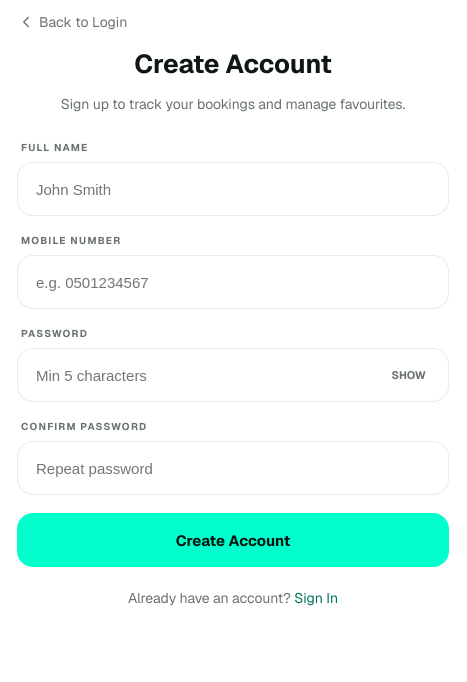
Test: Register › errors when passwords do not match
This screenshot has width=467, height=682.
In the field with placeholder "John Smith": [233, 189] box [34,163,432,215], type "Ada"
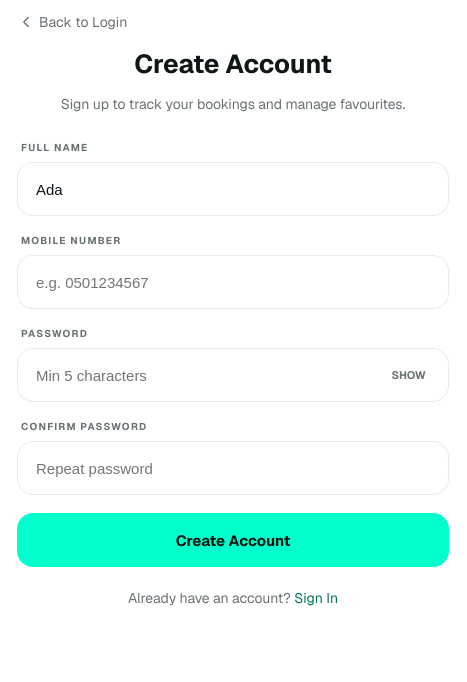
In the field with placeholder "e.g. 0501234567": [233, 282] box [34,256,432,308], type "050"
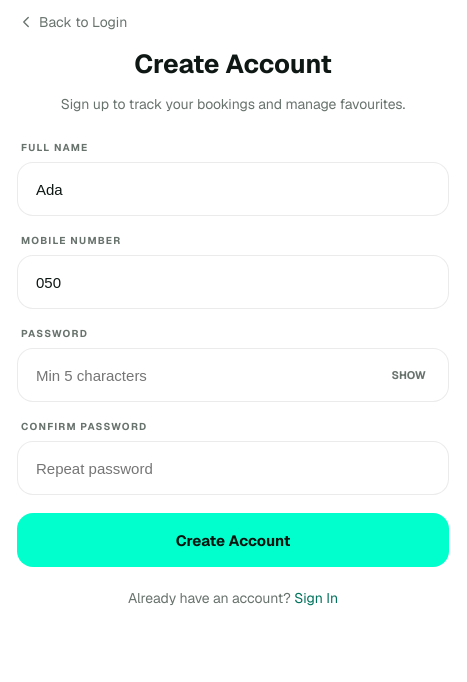
In the password field with placeholder "Min 5 characters": [205, 375] box [34,349,376,401], type "secret"
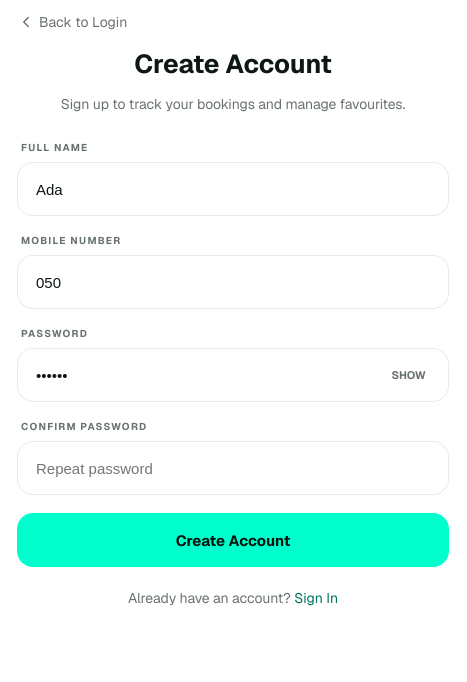
In the password field with placeholder "Repeat password": [233, 468] box [34,442,432,494], type "other1"
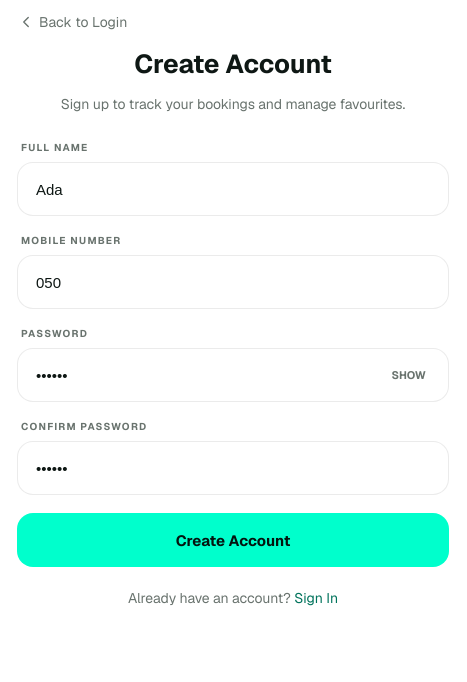
Click the button "Create Account": [233, 540] box [17,513,449,567]
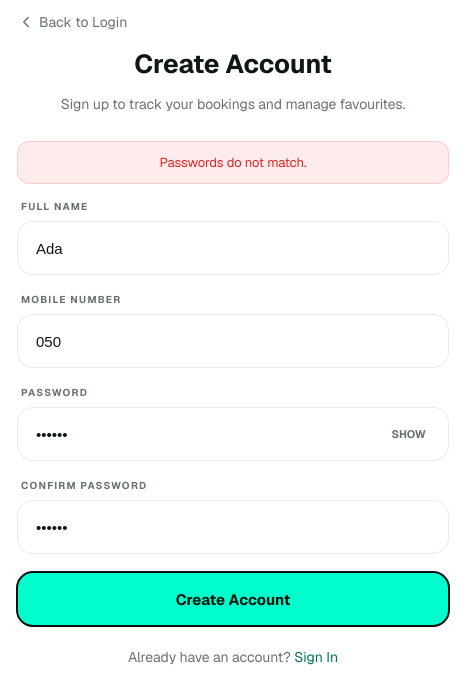
Expected: the text "Passwords do not match." is shown, [17,141,449,184]
